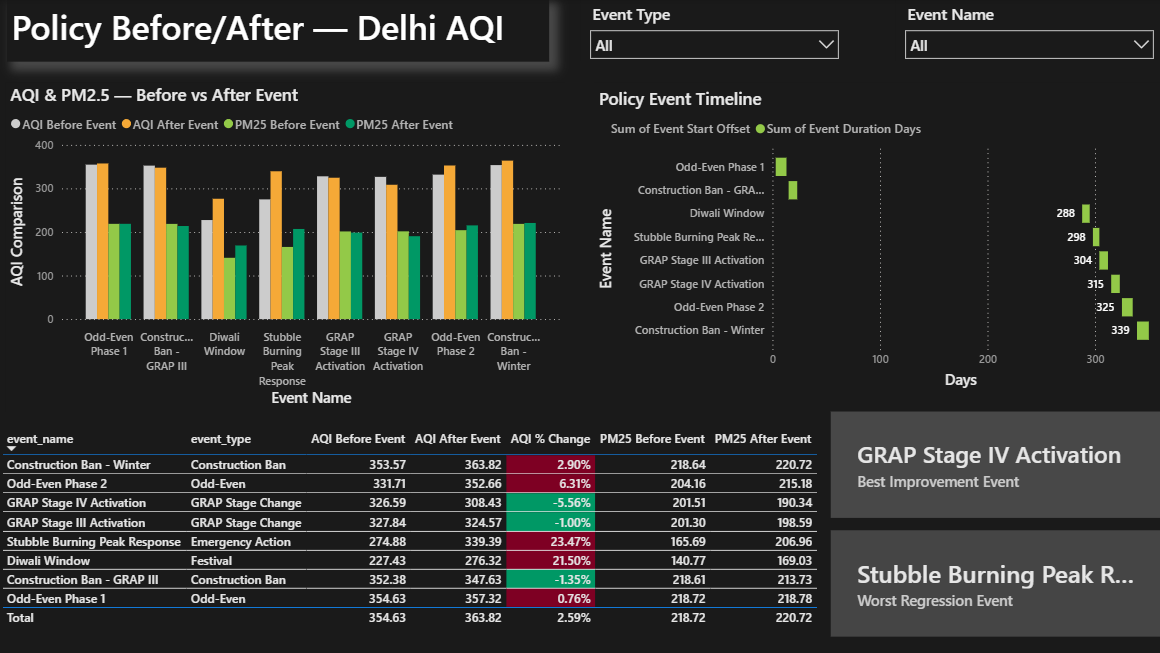

Layout of this report page (visuals, bound fields, positions):
{"tool":"powerbi","page":{"name":"Page 3","canvas":[1280,720],"ordinal":2},"visuals":[{"type":"textbox","box":[10.3,0,594.9,68.5],"z":0},{"type":"slicer","fields":{"Values":["delhiaqi policy_events.event_type"]},"box":[640.7,0,293.2,67.8],"z":1000},{"type":"slicer","fields":{"Values":["delhiaqi policy_events.event_name"]},"box":[986.4,0,293.2,67.8],"z":2000},{"type":"clusteredColumnChart","title":"AQI & PM2.5 — Before vs After Event","fields":{"Y":["_Measures.AQI Before Event","_Measures.AQI After Event","_Measures.PM25 Before Event","_Measures.PM25 After Event"],"Category":["delhiaqi policy_events.event_name"]},"box":[10.2,91.5,613.6,361],"z":3000},{"type":"barChart","title":"Policy Event Timeline","fields":{"Category":["delhiaqi policy_events.event_name"],"Y":["Sum(delhiaqi policy_events.Event Start Offset)","Sum(delhiaqi policy_events.Event Duration Days)"]},"box":[655.9,91.5,623.7,340.7],"z":4000},{"type":"tableEx","fields":{"Values":["delhiaqi policy_events.event_name","delhiaqi policy_events.event_type","_Measures.AQI Before Event","_Measures.AQI After Event","_Measures.AQI % Change","_Measures.PM25 Before Event","_Measures.PM25 After Event"]},"box":[0,466.1,915.3,233.9],"z":5000},{"type":"cardVisual","fields":{"Data":["_Measures.Best Improvement Event"]},"box":[915.3,452.5,364.4,116.9],"z":6000},{"type":"cardVisual","fields":{"Data":["_Measures.Worst Regression Event"]},"box":[915.3,583.1,364.4,116.9],"z":7000}]}

Visuals, with their boxes in screenshot pixels (x1, y1, x2, y2), scaled from the page's 1280x720 canvas onto the 1160x653 screenshot:
textbox: [9,0,548,62]
slicer - delhiaqi policy_events.event_type: [581,0,846,61]
slicer - delhiaqi policy_events.event_name: [894,0,1159,61]
"AQI & PM2.5 — Before vs After Event" clusteredColumnChart: [9,83,565,410]
"Policy Event Timeline" barChart: [594,83,1159,392]
tableEx - delhiaqi policy_events.event_name x delhiaqi policy_events.event_type: [0,423,829,635]
cardVisual - _Measures.Best Improvement Event: [829,410,1159,516]
cardVisual - _Measures.Worst Regression Event: [829,529,1159,635]
